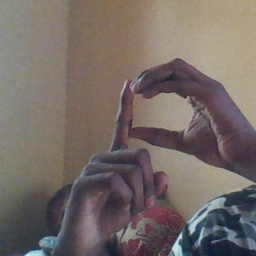P: (76, 57, 219, 222)
